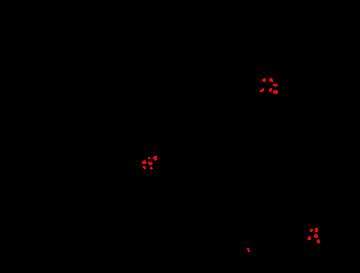Target: (273, 90, 278, 94), (153, 156, 157, 161), (142, 160, 147, 164), (262, 78, 266, 82), (269, 78, 273, 82), (260, 88, 264, 92), (314, 234, 318, 238), (307, 236, 311, 240), (273, 84, 278, 87), (148, 162, 153, 165), (269, 88, 272, 92), (315, 228, 318, 232), (317, 239, 320, 243), (247, 248, 250, 252), (143, 166, 146, 169), (150, 167, 153, 170), (310, 229, 313, 232), (148, 157, 151, 159)
